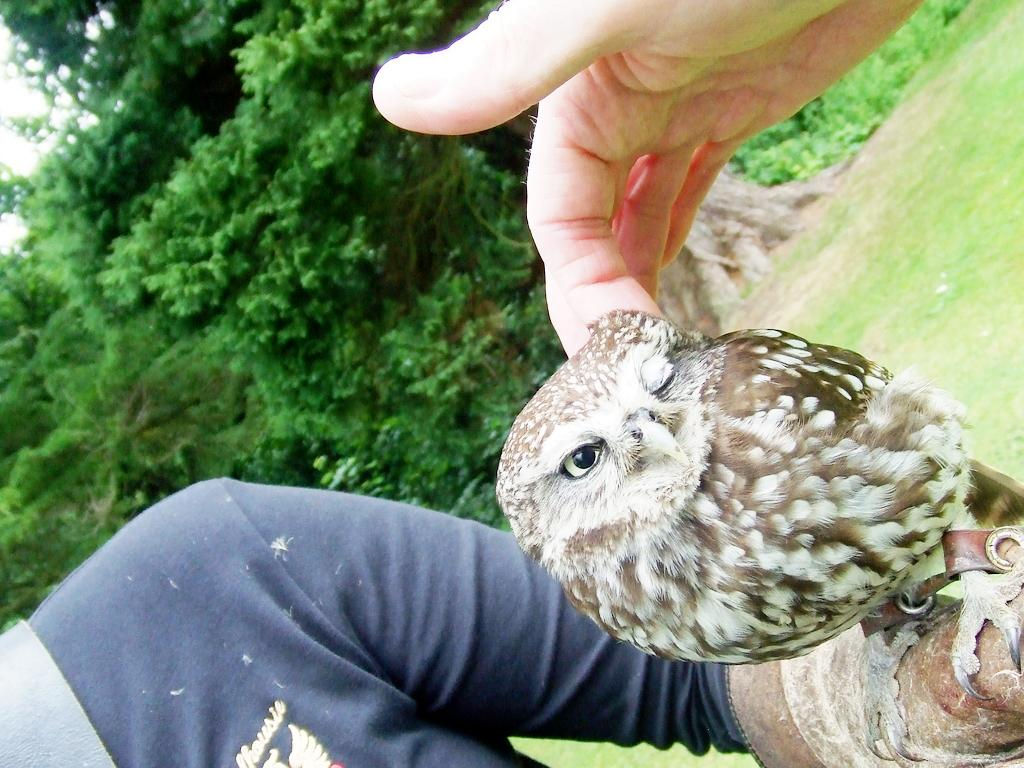Owl: (498, 304, 1024, 768)
